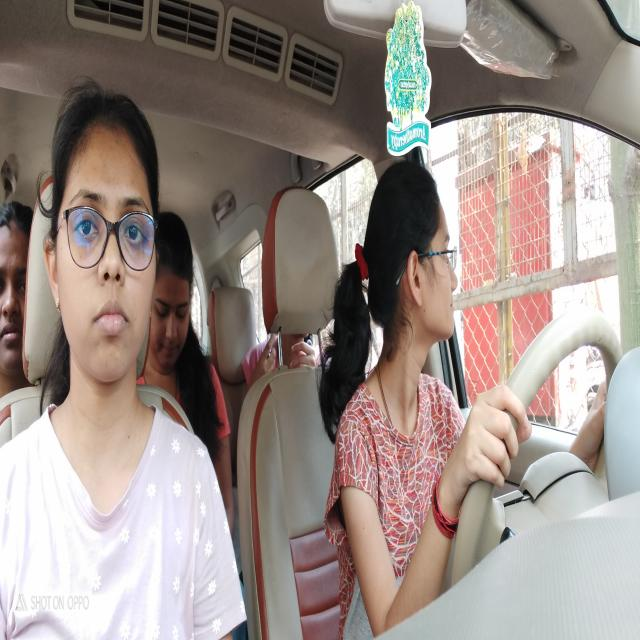LeftRight: (379, 157, 460, 386)
person: (47, 80, 164, 396), (155, 213, 196, 384), (0, 196, 33, 394)
